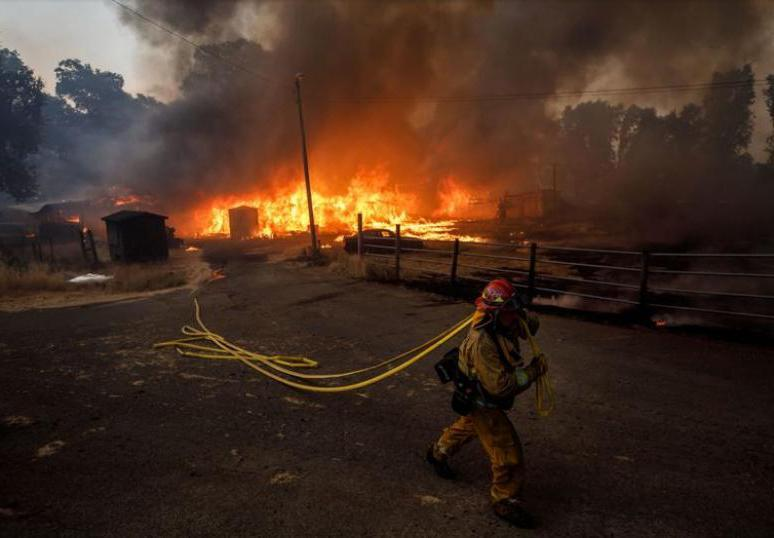Fire: (168, 150, 507, 259)
